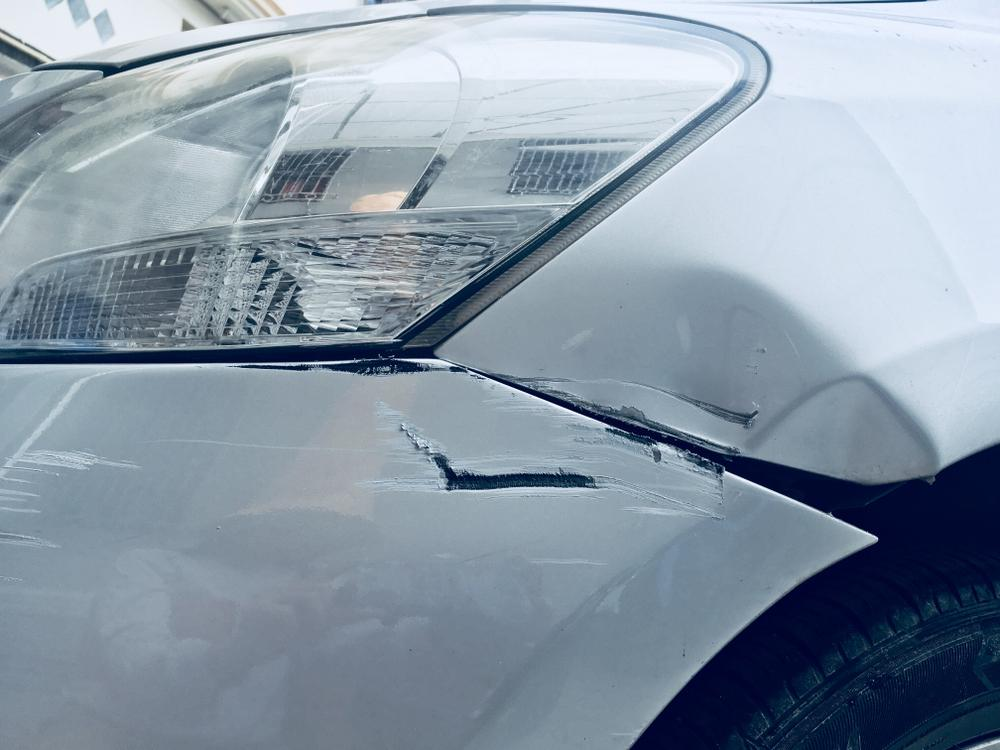dent: (457, 268, 949, 477)
scratch: (227, 364, 743, 534), (0, 373, 148, 590)
